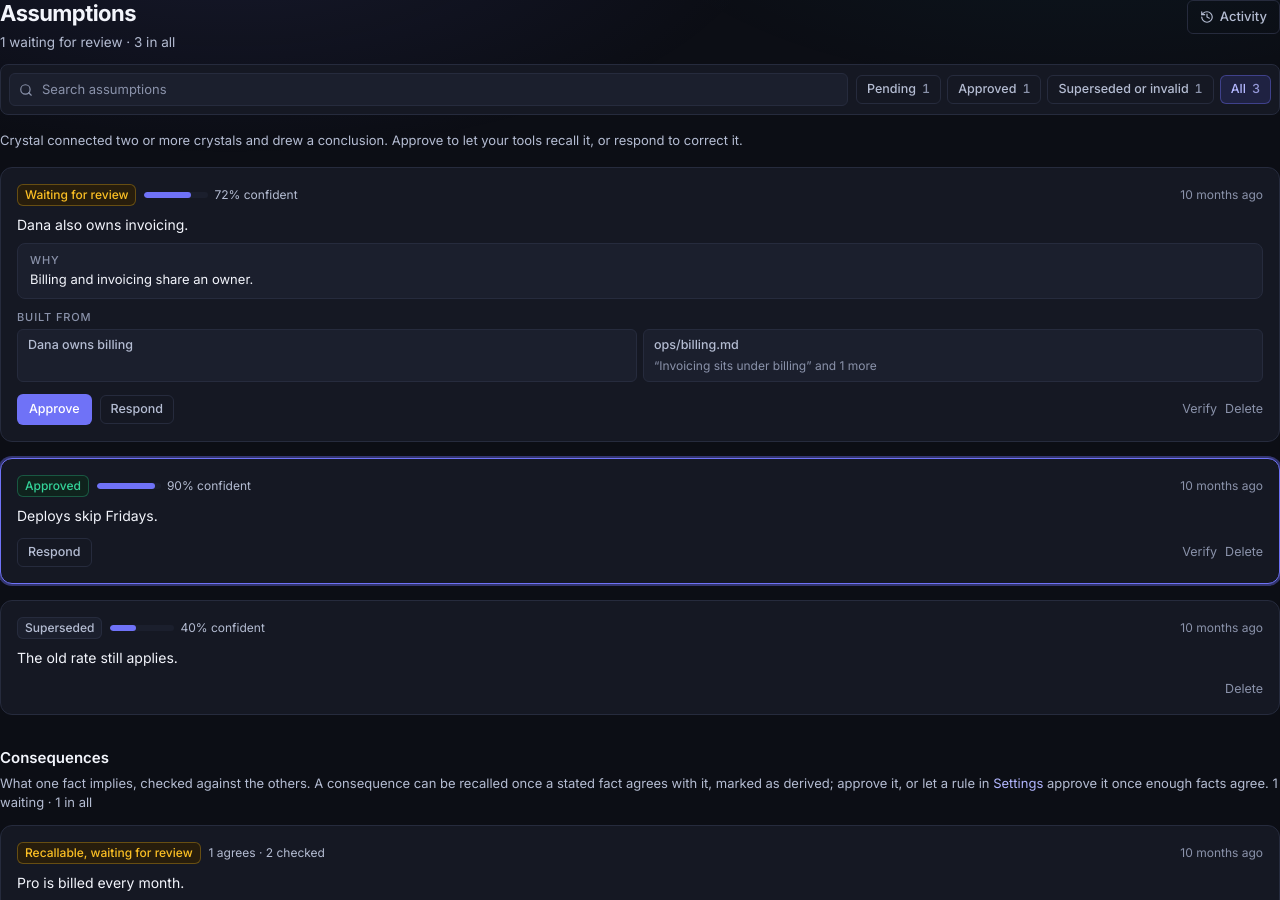
Test: Assumptions (Refine PR 7) › deep-links an approved card by switching the filter and highlighting it; Activity opens in a drawer
What coordinates should you click on to do the following:
click the button "Activity"
I would click on:
 (1233, 17)
Its box is [1187,0,1279,34].
(page scrolled)
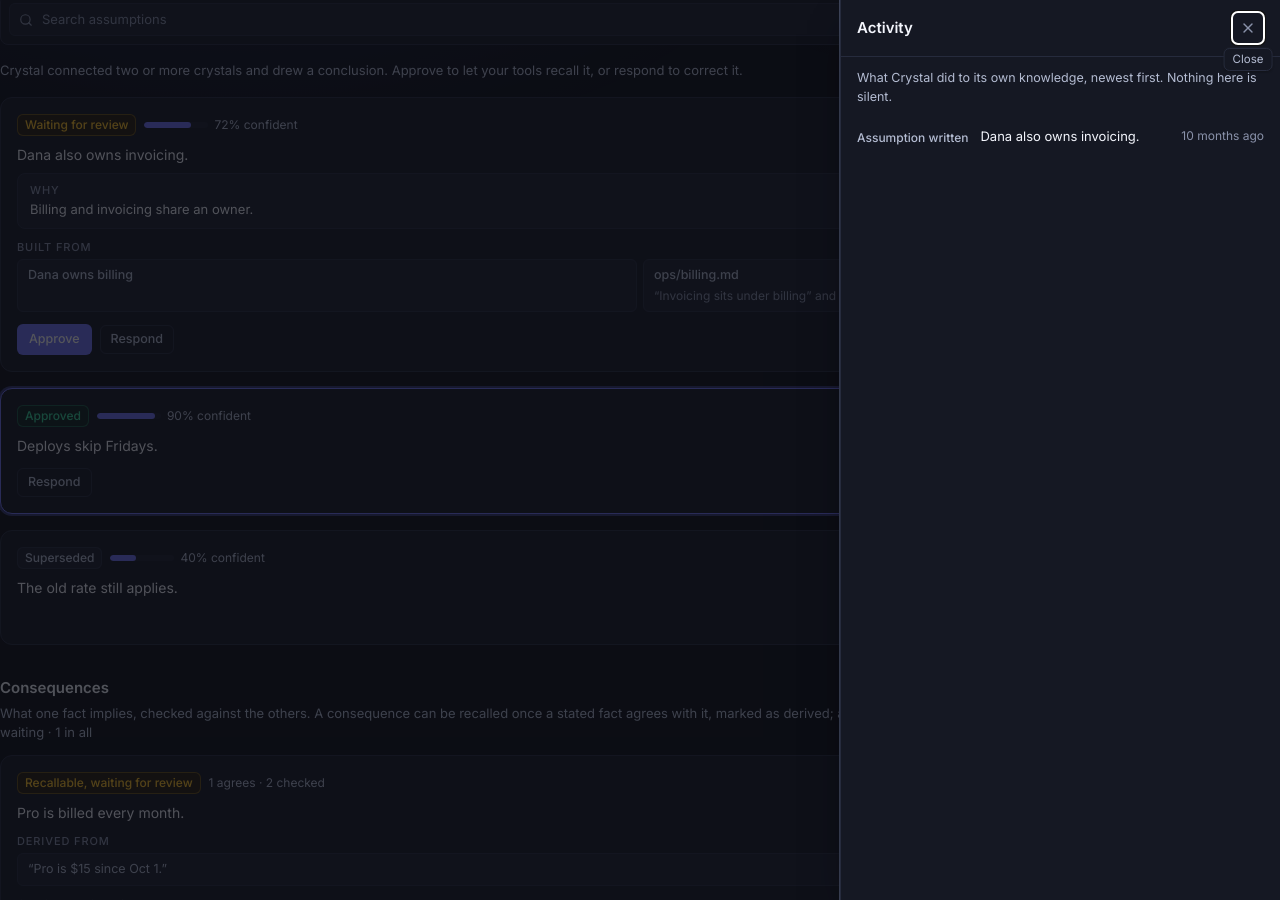
Check: the text "Assumption written" is shown, box [857,128,968,146]
